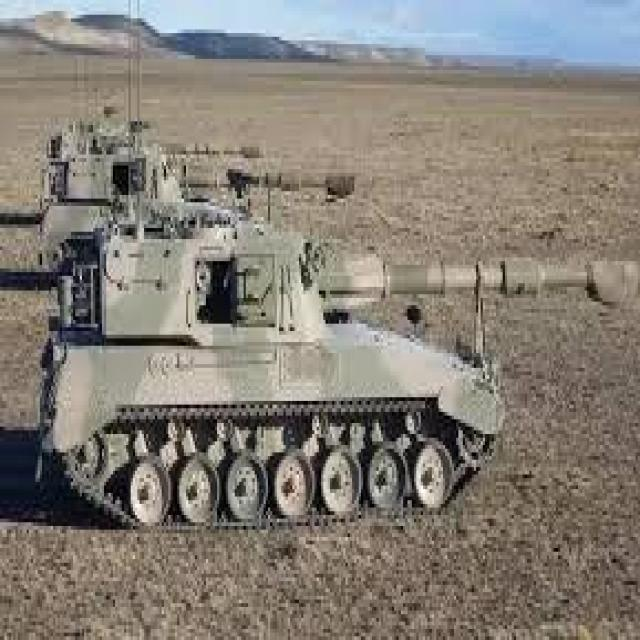Tanks: (31, 129, 523, 522)
